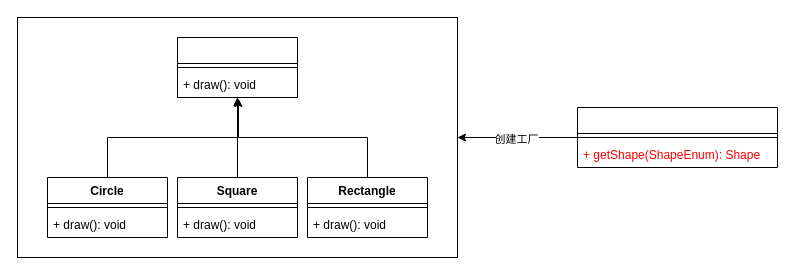
Image size: 795x275. Some labels were removed from this diagram. Each missing label, with the box of its shape:
Shape: (176, 36, 298, 98)
ShapeFactory: (576, 106, 778, 168)
